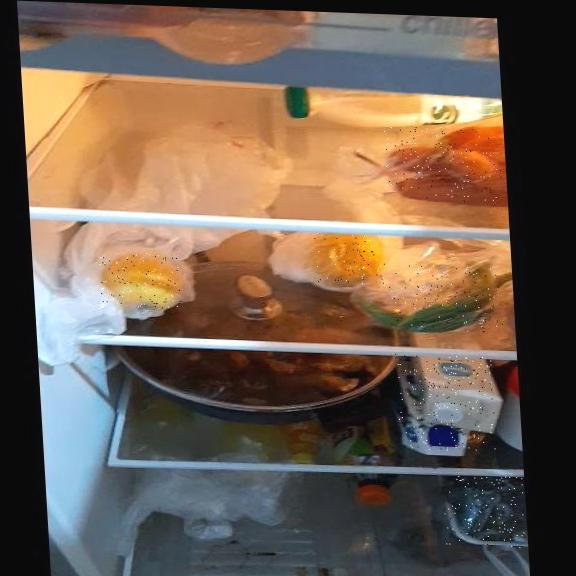broccoli: (443, 474, 527, 548)
carrot: (384, 126, 507, 203)
green chilies: (388, 264, 505, 333)
lemon: (99, 251, 183, 309), (314, 234, 386, 286)
milk: (396, 354, 497, 452)
